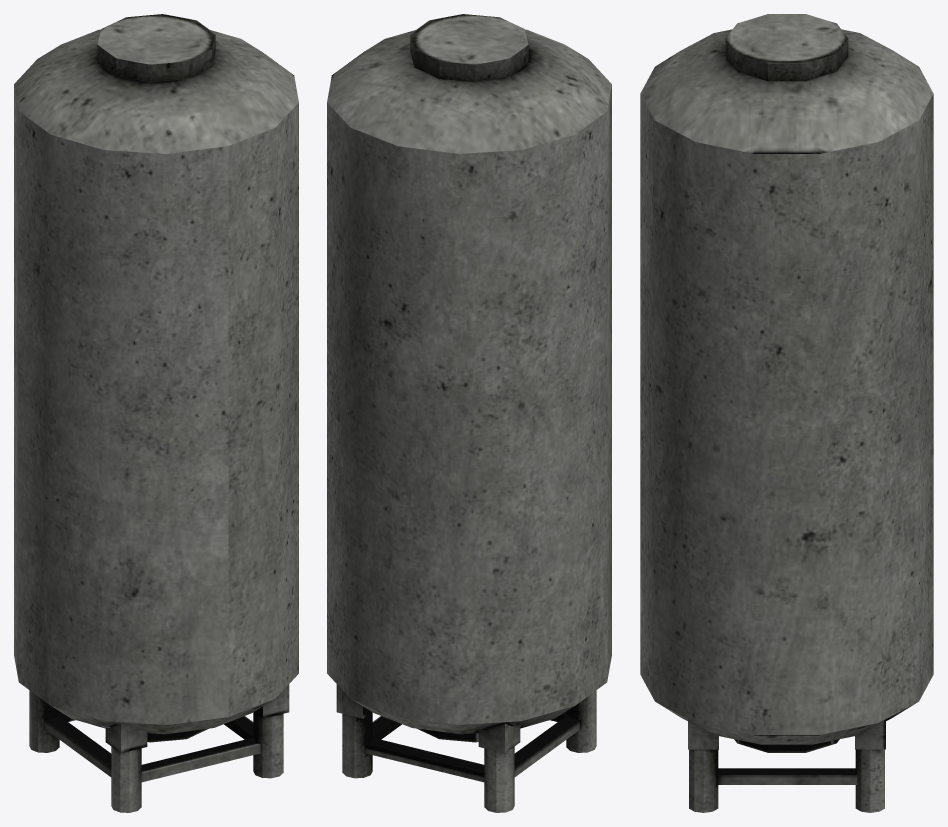
File: Tank1.obj
3 renders of one model, left to right at view 1: azimuth 30°, elevation 25°; view 2: azimuth 150°, elevation 25°; view 3: azimuth 270°, elevation 25°, orthographic.
Visible parts, largest first — view 1: Tank1; view 2: Tank1; view 3: Tank1.
Boxes of the visible parts, x1,y1,x2,y2 form: Tank1: (14,14,298,812); Tank1: (327,14,611,812); Tank1: (640,14,933,812).
Bounding box in the file's own units: 55.26 × 156 × 56.69.
